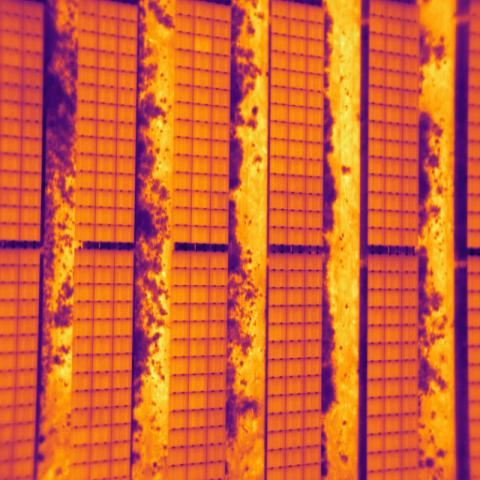fault: (194, 35, 212, 52)
